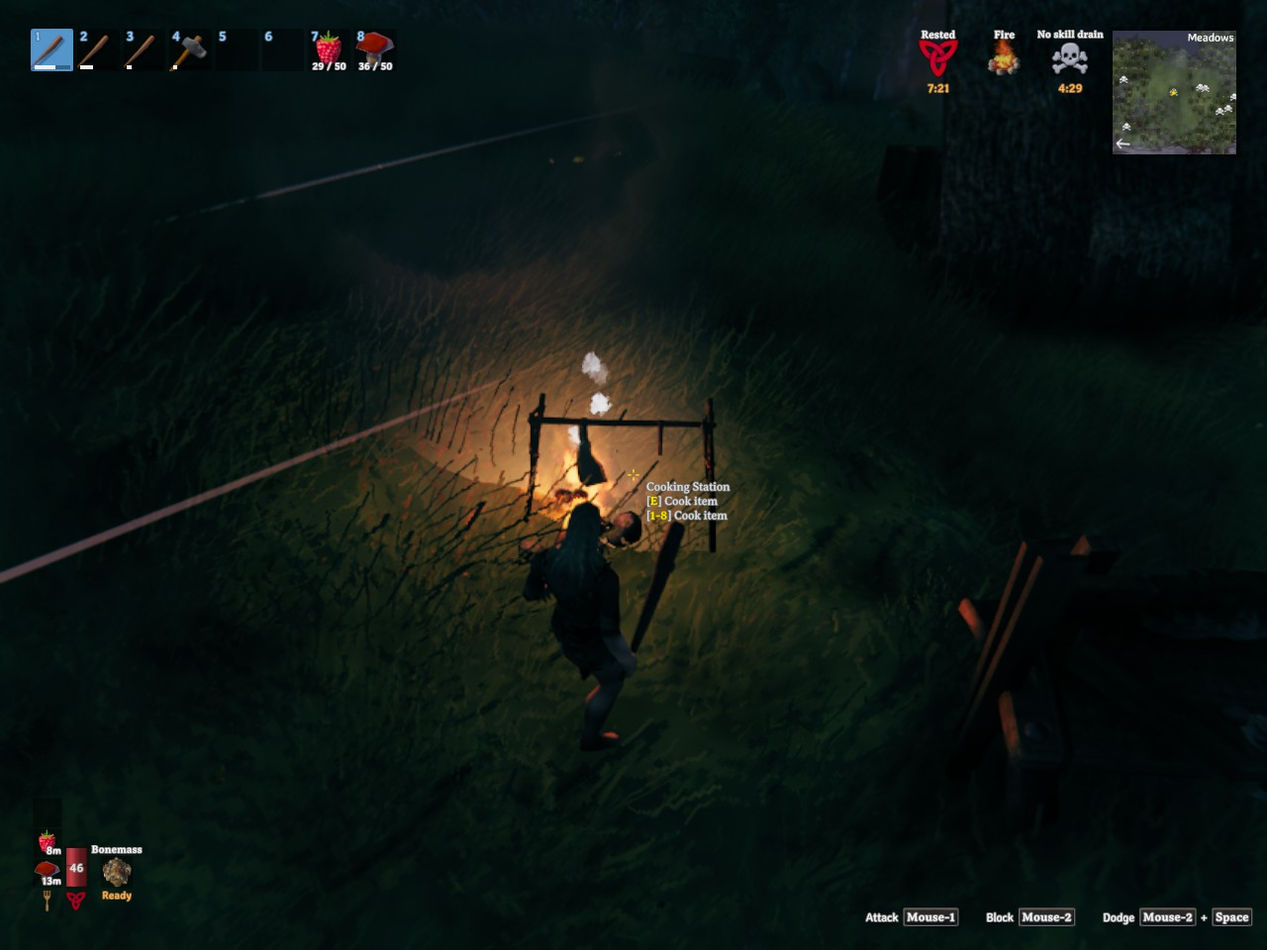Status Indicator: (904, 25, 1110, 111)
